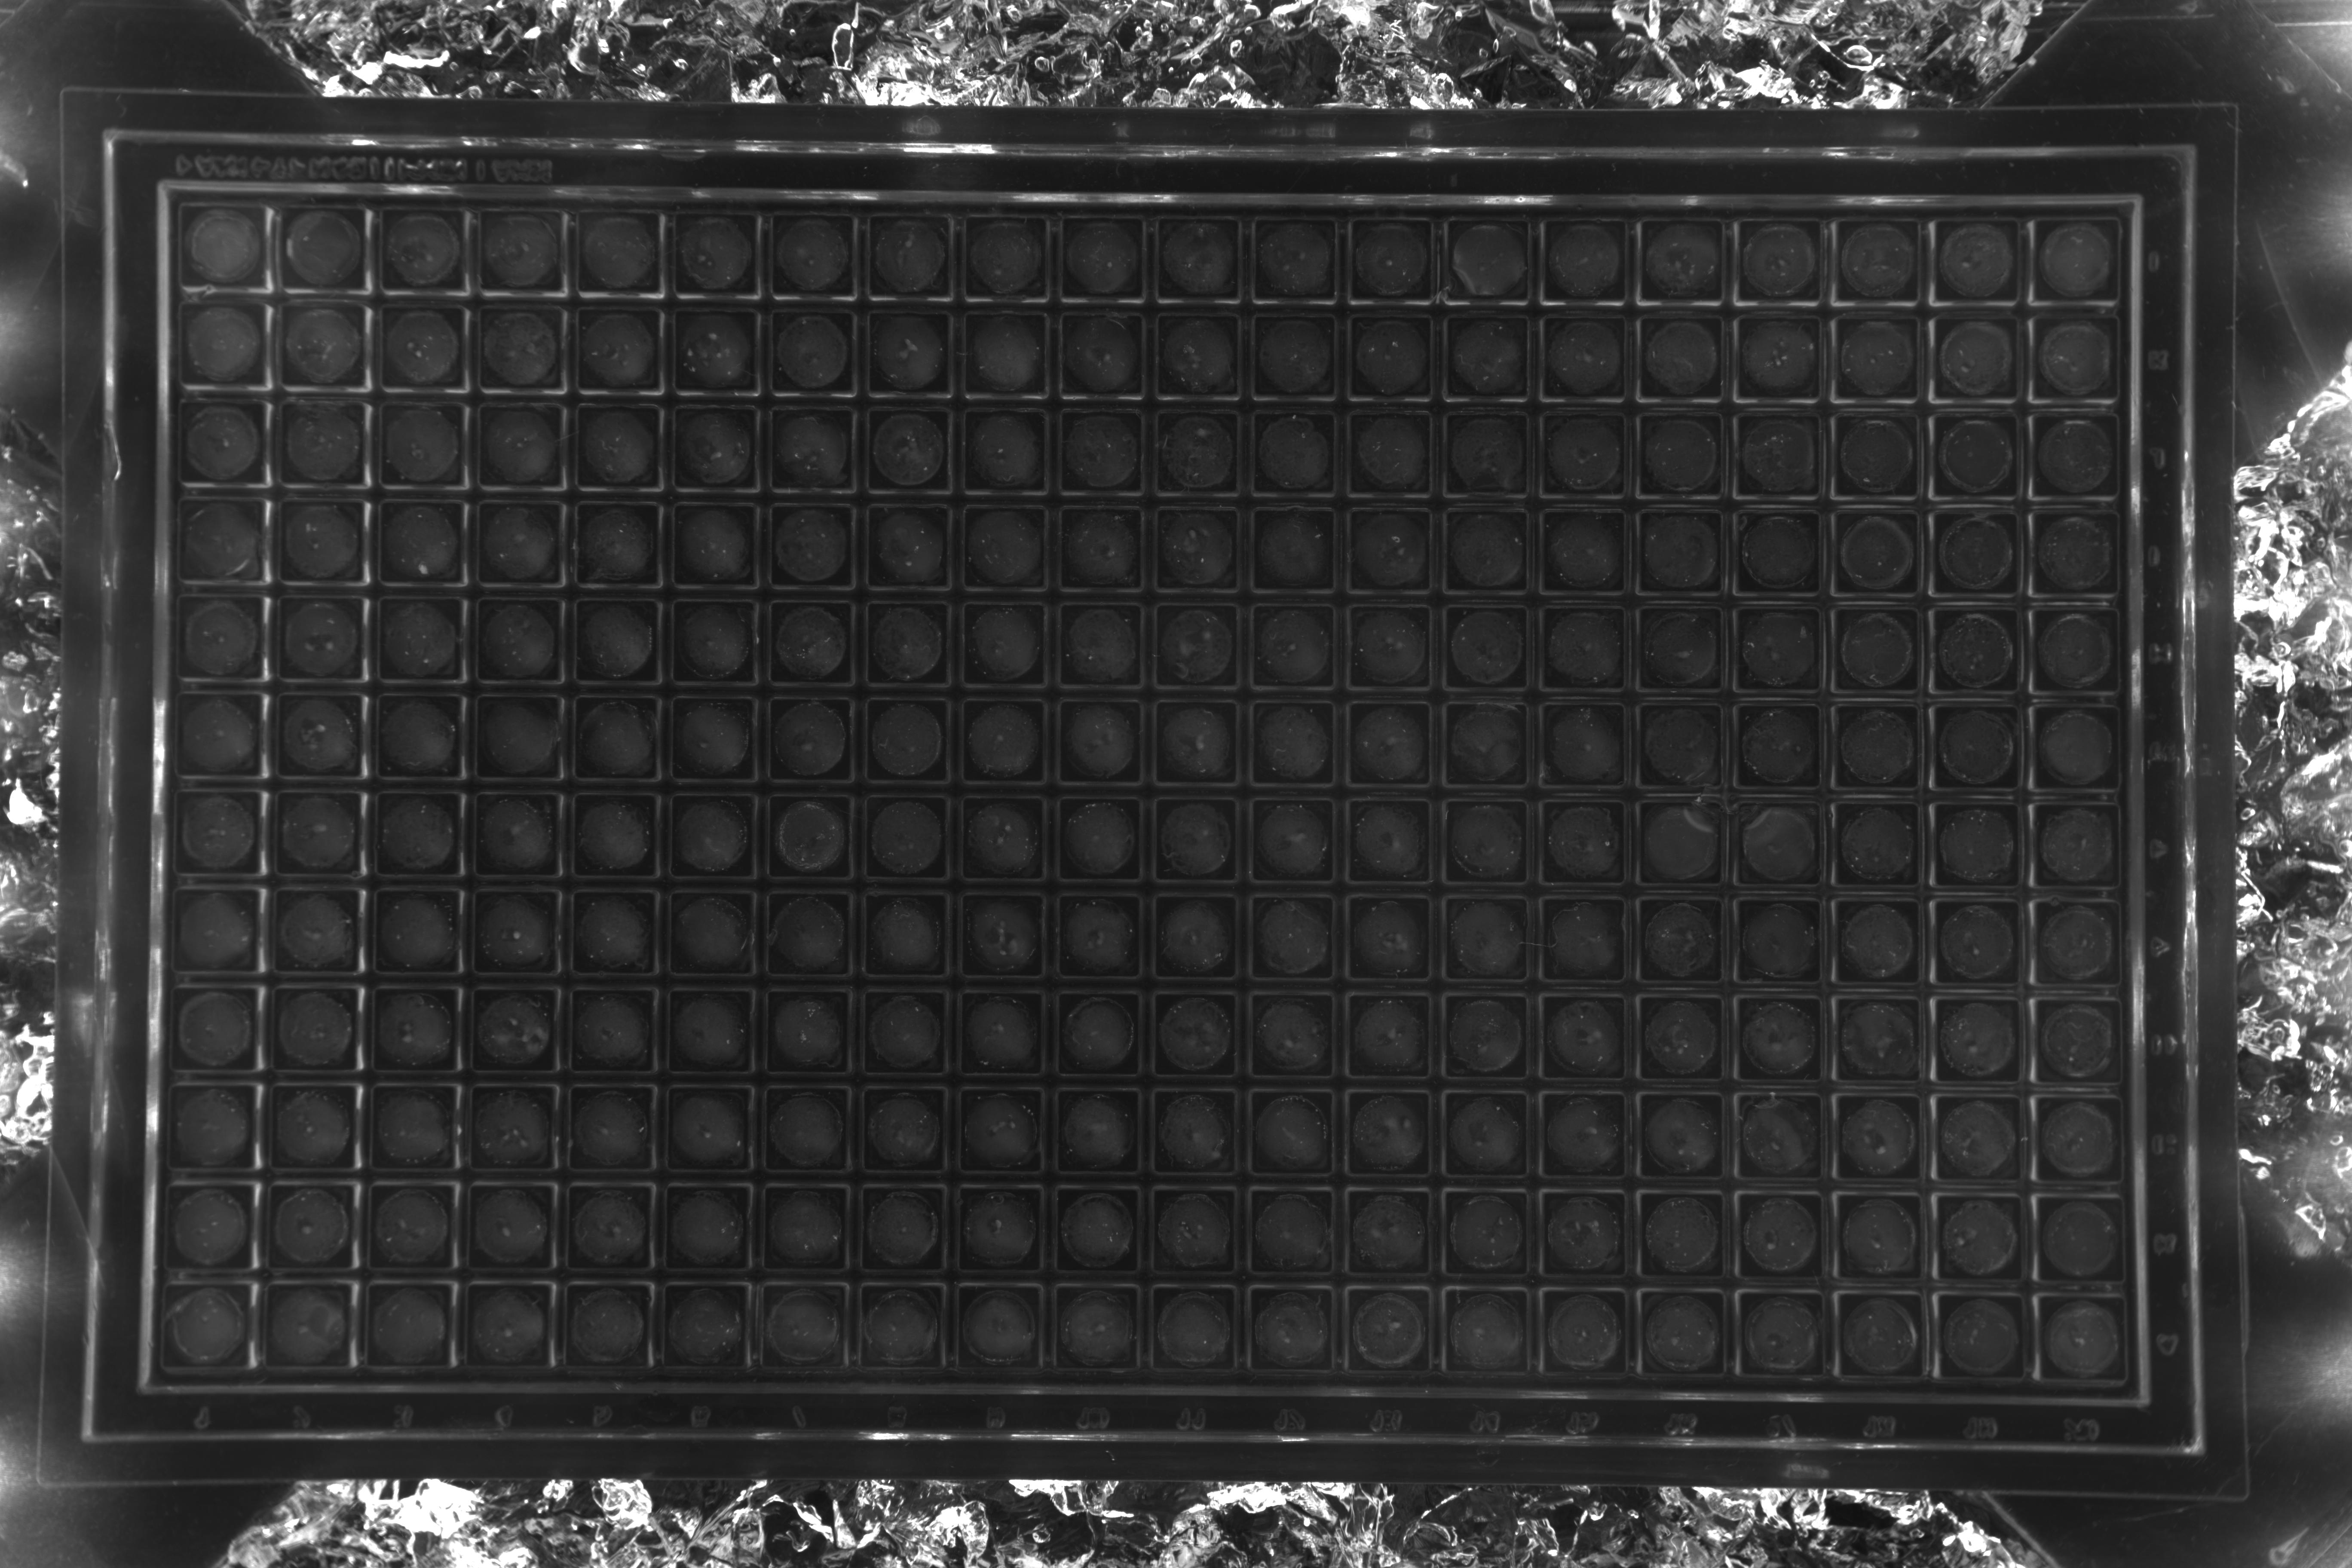WM_well: (493, 945, 583, 1032), (497, 266, 586, 353), (590, 1043, 679, 1130), (689, 947, 779, 1034), (199, 945, 287, 1032), (789, 654, 877, 742), (789, 752, 877, 840), (887, 462, 975, 549), (887, 752, 975, 840), (887, 269, 975, 357), (983, 464, 1071, 551), (983, 656, 1071, 744), (983, 850, 1071, 938), (1466, 850, 1554, 938), (1661, 464, 1748, 551), (1664, 950, 1752, 1038), (1666, 1246, 1753, 1333), (1760, 560, 1848, 647), (1762, 852, 1850, 940), (1764, 1150, 1851, 1237), (1858, 462, 1946, 549), (1864, 1150, 1951, 1237), (1956, 268, 2044, 355), (2056, 464, 2144, 551)
